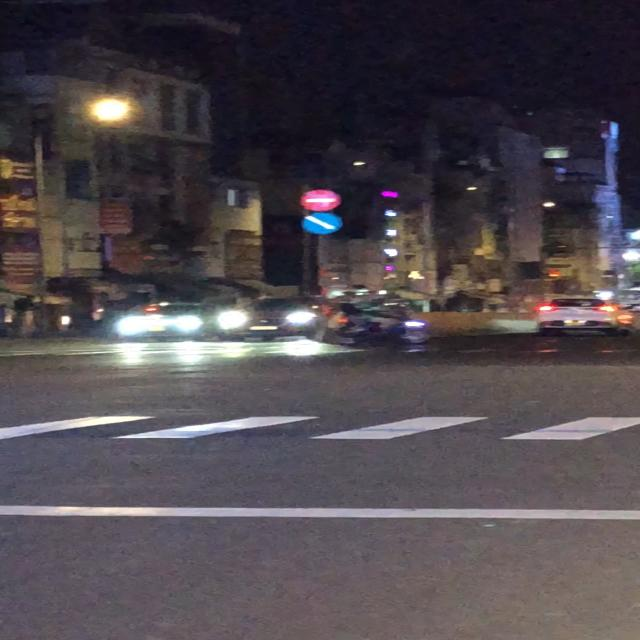Bien bao cam di nguoc chieu: (297, 188, 344, 212)
Bien bao huong phai di vong chuong ngai vat: (303, 212, 344, 236)
